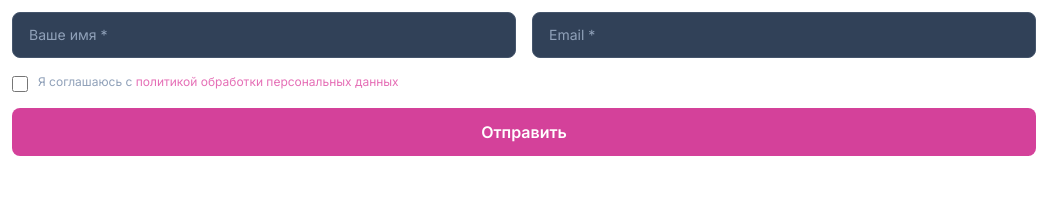
Test: SiteForm › says plainly when sending failed
Type "Анна" into the field labelled "Ваше имя".
click(264, 35); type("Анна")  # box x1=12 y1=12 x2=516 y2=58
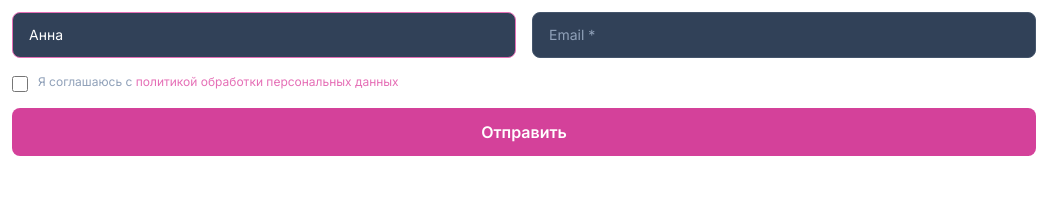
Type "anna@example.by" into the field labelled "Email".
click(784, 35); type("anna@example.by")  # box x1=532 y1=12 x2=1036 y2=58
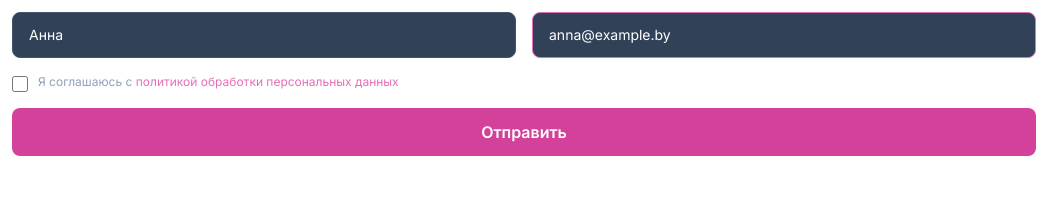
Click the checkbox.
click(20, 84)  # box x1=12 y1=76 x2=28 y2=92
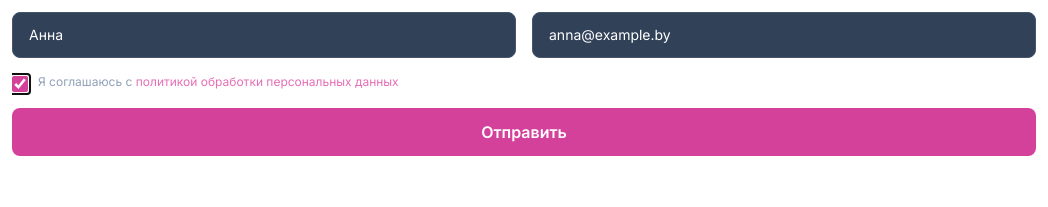
Click the button "Отправить".
click(524, 132)  # box x1=12 y1=108 x2=1036 y2=156
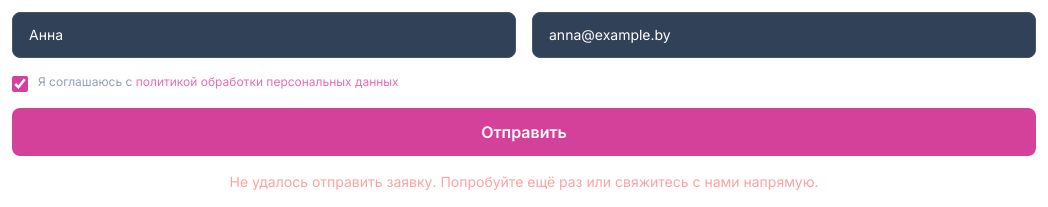
Expected: the text "Не удалось отправить заявку. Попробуйте ещё раз или свяжитесь с нами напрямую." is shown, x1=230 y1=173 x2=818 y2=190
